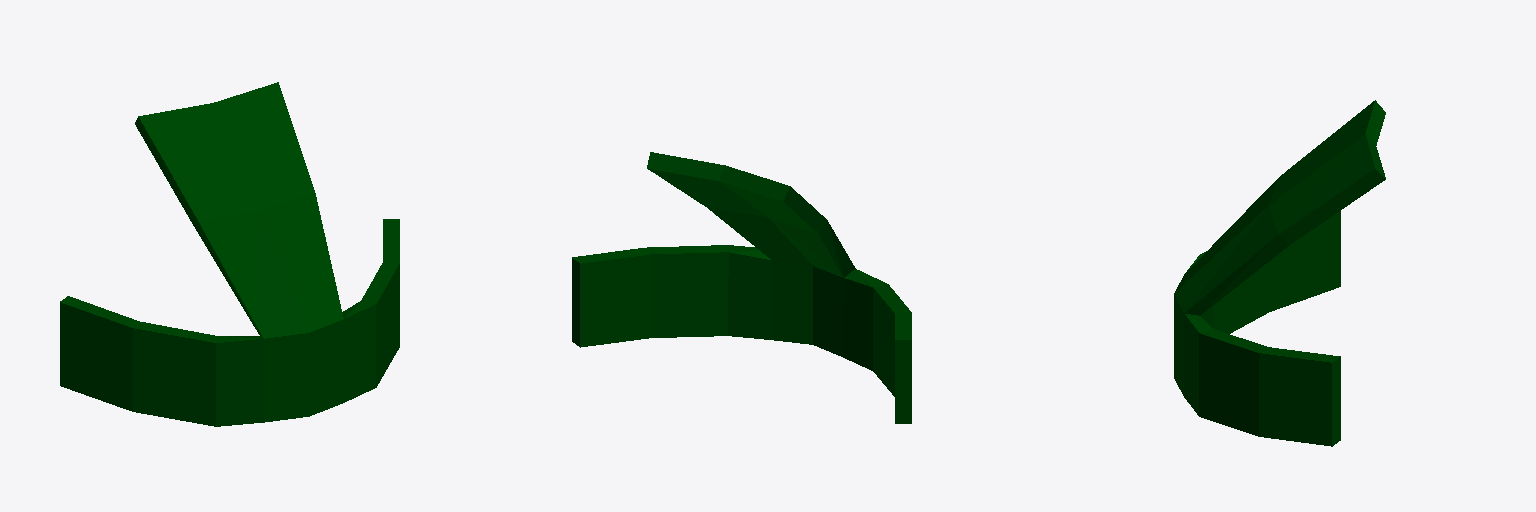
File: Hood1.obj
The picture shows the model from 3 angles: view 1: azimuth 30°, elevation 25°; view 2: azimuth 150°, elevation 25°; view 3: azimuth 270°, elevation 25°; orthographic projection.
Visible parts, largest first — view 1: Hood1_Cylinder.010; view 2: Hood1_Cylinder.010; view 3: Hood1_Cylinder.010.
Boxes of the visible parts, x1=… form: Hood1_Cylinder.010: x1=60, y1=82, x2=399, y2=426; Hood1_Cylinder.010: x1=572, y1=152, x2=911, y2=423; Hood1_Cylinder.010: x1=1174, y1=100, x2=1385, y2=446.
Bounding box in the file's own units: 6.96 × 4.76 × 3.77.